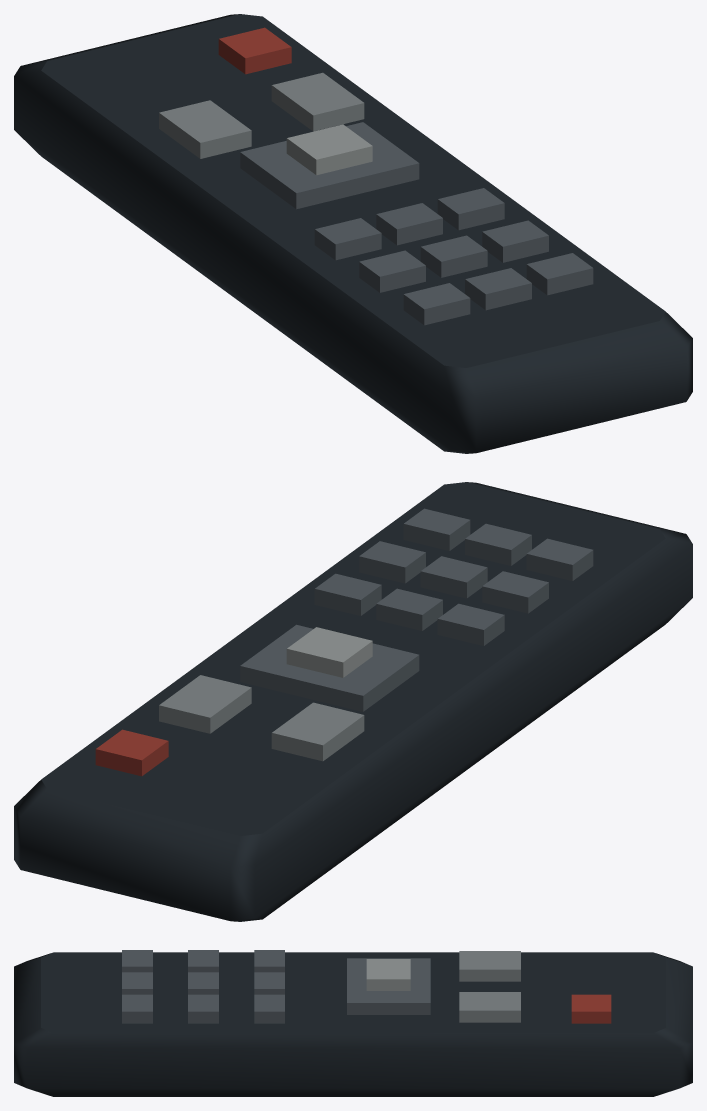
The model's file is tv_remote.glb.
3 views of the same model, one above another, from view 1: azimuth 30°, elevation 25°; view 2: azimuth 150°, elevation 25°; view 3: azimuth 270°, elevation 25° (orthographic). The views are drawn at different scales.
Parts seen in each view (by area): view 1: tv_remote; view 2: tv_remote; view 3: tv_remote.
Boxes of the visible parts, box(x1,y1,x2,y2) form: tv_remote: box(14, 14, 692, 453); tv_remote: box(14, 482, 692, 921); tv_remote: box(14, 950, 692, 1096).
Size of the model in its own units: 0.047 by 0.0219 by 0.154.
